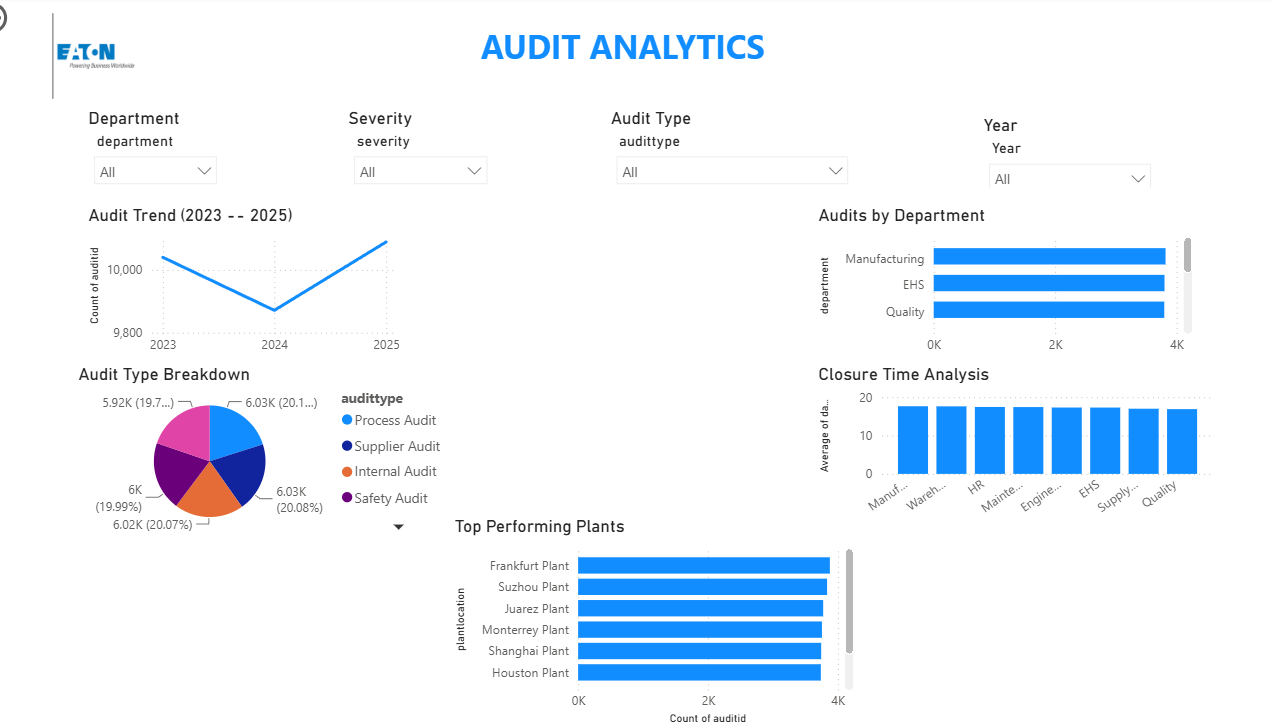

This screenshot's page, from the dashboard's own definition file:
{"tool":"powerbi","page":{"name":"Audit Analytics","canvas":[1280,720],"ordinal":1},"visuals":[{"type":"pieChart","title":"Audit Type Breakdown","fields":{"Category":["public audit_findings.audittype"],"Y":["CountNonNull(public audit_findings.auditid)"]},"box":[100.3,359.5,377.9,172.4],"z":0},{"type":"lineChart","title":"Audit Trend (2023 -- 2025)","fields":{"Category":["public audit_findings.auditdate.Variation.Date Hierarchy.Year","public audit_findings.auditdate.Variation.Date Hierarchy.Quarter","public audit_findings.auditdate.Variation.Date Hierarchy.Month","public audit_findings.auditdate.Variation.Date Hierarchy.Day"],"Y":["CountNonNull(public audit_findings.auditid)"]},"box":[110.1,204.2,314.3,155.3],"z":1000},{"type":"clusteredBarChart","title":"Audits by Department","fields":{"Category":["public audit_findings.department"],"Y":["CountNonNull(public audit_findings.auditid)"]},"box":[824.2,204.2,375.4,155.3],"z":2000},{"type":"textbox","box":[146.7,22,919.6,72.1],"z":3000},{"type":"slicer","title":"Department","fields":{"Values":["public audit_findings.department"]},"box":[110.1,108.8,140.6,78.3],"z":4000},{"type":"slicer","title":"Severity","fields":{"Values":["public audit_findings.severity"]},"box":[364.4,108.8,150.4,78.3],"z":5000},{"type":"actionButton","box":[0,1.2,100.3,40.4],"z":6000},{"type":"slicer","title":"Audit Type","fields":{"Values":["public audit_findings.audittype"]},"box":[621.2,108.8,247,88],"z":7000},{"type":"slicer","title":"Year","fields":{"Values":["public audit_findings.auditdate.Variation.Date Hierarchy.Year"]},"box":[985.6,116.2,178.5,70.9],"z":8000},{"type":"clusteredColumnChart","title":"Closure Time Analysis","fields":{"Category":["public audit_findings.department"],"Y":["Avg(public audit_findings.daystoclose)"]},"box":[824.2,359.5,396.2,160.2],"z":9000},{"type":"barChart","title":"Top Performing Plants","fields":{"Category":["public audit_findings.plantlocation"],"Y":["CountNonNull(public audit_findings.auditid)"]},"box":[468.3,508.7,399.9,209.1],"z":10000},{"type":"image","box":[50.1,17.1,143.1,83.2],"z":11000}]}

Visuals, with their boxes in screenshot pixels (x1, y1, x2, y2), scaled from the page's 1280x720 canvas onto the 1273x727 screenshot:
"Audit Type Breakdown" pieChart: bbox=(100, 363, 476, 537)
"Audit Trend (2023 -- 2025)" lineChart: bbox=(109, 206, 422, 363)
"Audits by Department" clusteredBarChart: bbox=(820, 206, 1193, 363)
textbox: bbox=(146, 22, 1060, 95)
"Department" slicer: bbox=(109, 110, 249, 189)
"Severity" slicer: bbox=(362, 110, 512, 189)
actionButton: bbox=(0, 1, 100, 42)
"Audit Type" slicer: bbox=(618, 110, 863, 199)
"Year" slicer: bbox=(980, 117, 1158, 189)
"Closure Time Analysis" clusteredColumnChart: bbox=(820, 363, 1214, 525)
"Top Performing Plants" barChart: bbox=(466, 514, 863, 725)
image: bbox=(50, 17, 192, 101)
